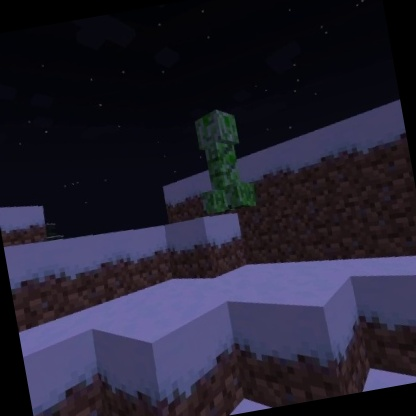creeper: (184, 103, 260, 219)
